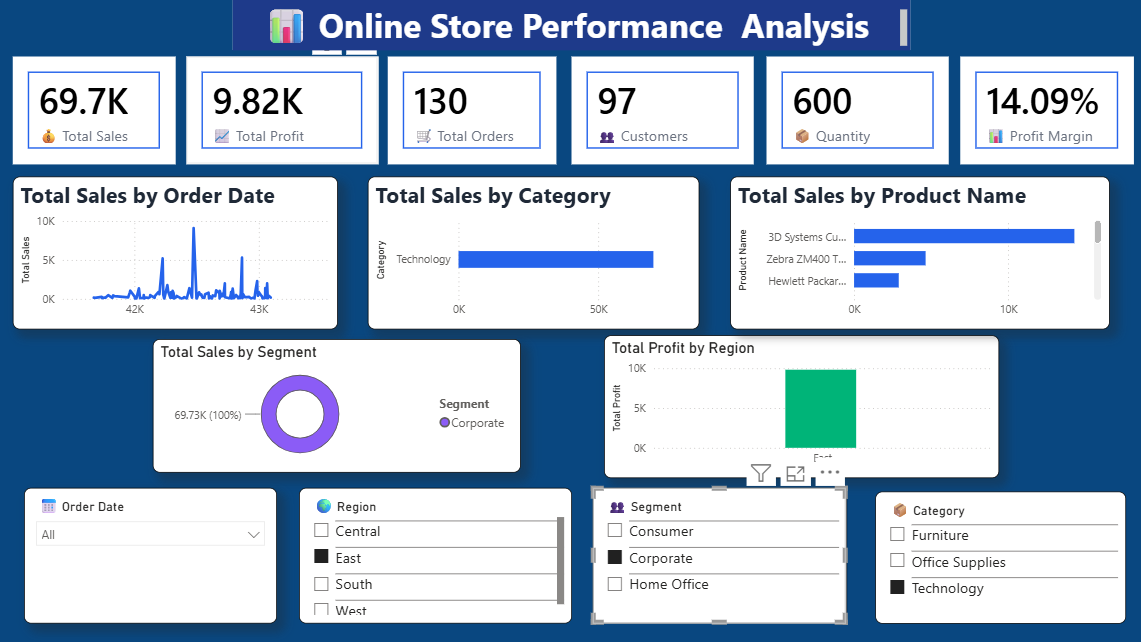

Layout of this report page (visuals, bound fields, positions):
{"tool":"powerbi","page":{"name":"Dashboard","canvas":[1280,720],"ordinal":0},"visuals":[{"type":"cardVisual","fields":{"Data":["Fact_Sales.Total Sales"]},"box":[15.1,64.4,182.1,120.5],"z":0},{"type":"lineChart","fields":{"Category":["Fact_Sales.Order Date"],"Y":["Fact_Sales.Total Sales"]},"box":[15.1,198.5,364.2,171.2],"z":1000},{"type":"clusteredBarChart","fields":{"Category":["Fact_Sales.Category"],"Y":["Fact_Sales.Total Sales"]},"box":[412.2,198.5,371.1,171.2],"z":2000},{"type":"clusteredColumnChart","fields":{"Category":["Fact_Sales.Region"],"Y":["Fact_Sales.Total Profit"]},"box":[677.8,376.6,442.3,160.2],"z":3000},{"type":"donutChart","fields":{"Category":["Fact_Sales.Segment"],"Y":["Fact_Sales.Total Sales"]},"box":[172.5,380.7,412.2,149.3],"z":4000},{"type":"clusteredBarChart","fields":{"Category":["Fact_Sales.Product Name"],"Y":["Fact_Sales.Total Sales"]},"box":[818.8,198.5,424.5,171.2],"z":5000},{"type":"slicer","fields":{"Values":["Fact_Sales.Region"]},"box":[335.5,547.7,305.3,152],"z":6000},{"type":"slicer","fields":{"Values":["Fact_Sales.Category"]},"box":[980.4,551.8,280.7,147.9],"z":7000},{"type":"slicer","fields":{"Values":["Fact_Sales.Segment"]},"box":[664.1,547.7,284.8,152],"z":8000},{"type":"cardVisual","fields":{"Data":["Fact_Sales.Total Profit"]},"box":[209.5,64.4,215,120.5],"z":9000},{"type":"cardVisual","fields":{"Data":["Fact_Sales.Total Orders"]},"box":[435.4,64.4,189,120.5],"z":10000},{"type":"cardVisual","fields":{"Data":["Fact_Sales.Total Customers"]},"box":[640.8,64.4,204,120.5],"z":11000},{"type":"cardVisual","fields":{"Data":["Fact_Sales.Total Quantity"]},"box":[858.5,64.4,204,120.5],"z":12000},{"type":"cardVisual","fields":{"Data":["Fact_Sales.Profit Margin %"]},"box":[1076.3,64.4,194.4,120.5],"z":13000},{"type":"slicer","fields":{"Values":["Fact_Sales.Order Date"]},"box":[27.4,547.7,283.4,152],"z":14000},{"type":"textbox","box":[261.4,0,758.6,57.1],"z":15000},{"type":"shape","box":[261.5,0,758.6,57.5],"z":16000},{"type":"textbox","box":[258,2.7,764.1,54.8],"z":18000}]}

Visuals, with their boxes in screenshot pixels (x1, y1, x2, y2), scaled from the page's 1280x720 canvas onto the 1141x642 screenshot:
cardVisual - Fact_Sales.Total Sales: <bbox>13, 57, 176, 165</bbox>
lineChart - Fact_Sales.Order Date x Fact_Sales.Total Sales: <bbox>13, 177, 338, 330</bbox>
clusteredBarChart - Fact_Sales.Category x Fact_Sales.Total Sales: <bbox>367, 177, 698, 330</bbox>
clusteredColumnChart - Fact_Sales.Region x Fact_Sales.Total Profit: <bbox>604, 336, 998, 479</bbox>
donutChart - Fact_Sales.Segment x Fact_Sales.Total Sales: <bbox>154, 339, 521, 473</bbox>
clusteredBarChart - Fact_Sales.Product Name x Fact_Sales.Total Sales: <bbox>730, 177, 1108, 330</bbox>
slicer - Fact_Sales.Region: <bbox>299, 488, 571, 624</bbox>
slicer - Fact_Sales.Category: <bbox>874, 492, 1124, 624</bbox>
slicer - Fact_Sales.Segment: <bbox>592, 488, 846, 624</bbox>
cardVisual - Fact_Sales.Total Profit: <bbox>187, 57, 378, 165</bbox>
cardVisual - Fact_Sales.Total Orders: <bbox>388, 57, 557, 165</bbox>
cardVisual - Fact_Sales.Total Customers: <bbox>571, 57, 753, 165</bbox>
cardVisual - Fact_Sales.Total Quantity: <bbox>765, 57, 947, 165</bbox>
cardVisual - Fact_Sales.Profit Margin %: <bbox>959, 57, 1133, 165</bbox>
slicer - Fact_Sales.Order Date: <bbox>24, 488, 277, 624</bbox>
textbox: <bbox>233, 0, 909, 51</bbox>
shape: <bbox>233, 0, 909, 51</bbox>
textbox: <bbox>230, 2, 911, 51</bbox>
